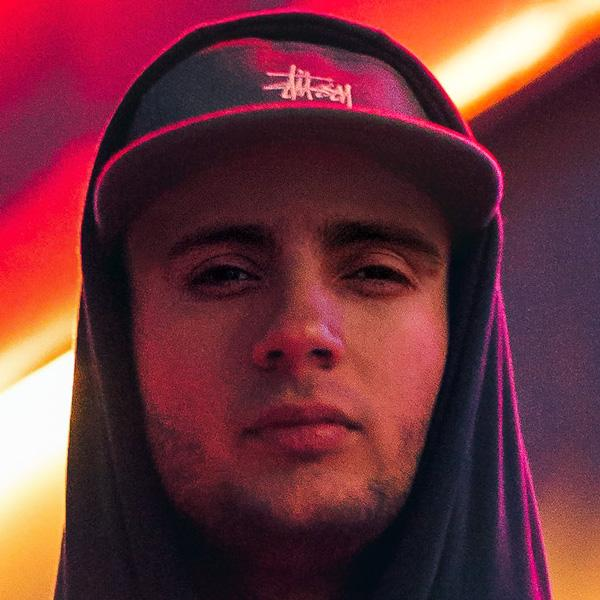Eyes: (328, 236, 428, 311), (178, 241, 268, 304)
